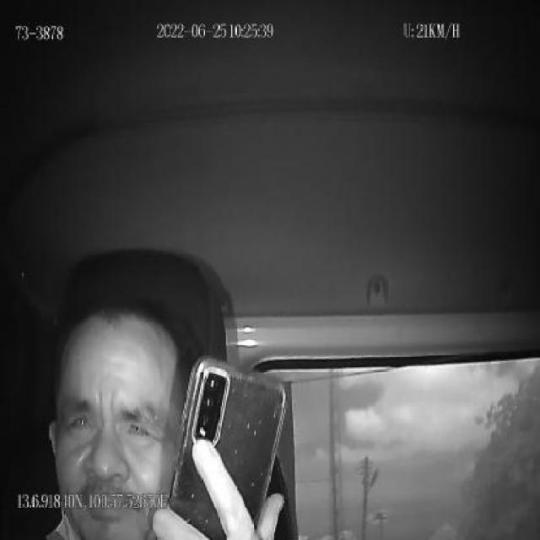phone: (163, 357, 286, 540)
